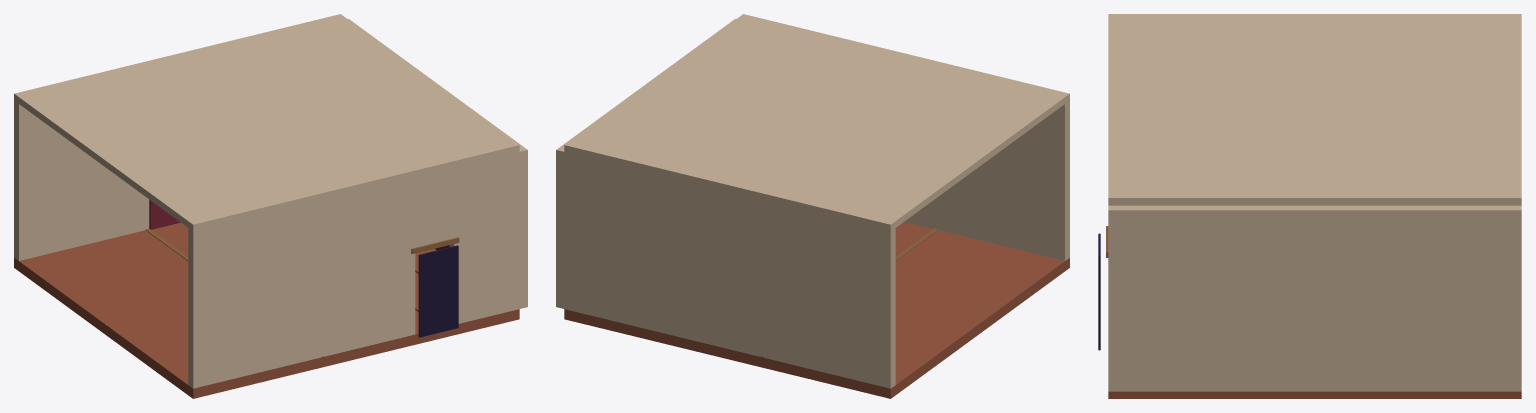
Rendered from kiln_office_room.gltf.
3 renders of one model, left to right at view 1: azimuth 30°, elevation 25°; view 2: azimuth 150°, elevation 25°; view 3: azimuth 270°, elevation 25°, orthographic. The views are drawn at different scales.
Visible parts, largest first — view 1: ceiling, right_wall, floor, left_wall, right_wall.2, doorway, lintel, back_wall, left_dado; view 2: ceiling, left_wall, floor, right_wall, back_wall; view 3: ceiling, back_wall, floor.
Boxes of the visible parts, left/top/right/bottom form: ceiling: left=14, top=14, right=519, bottom=231; right_wall: left=188, top=177, right=415, bottom=388; floor: left=14, top=222, right=519, bottom=398; left_wall: left=14, top=100, right=149, bottom=260; right_wall.2: left=449, top=152, right=519, bottom=323; doorway: left=418, top=245, right=458, bottom=337; lintel: left=415, top=168, right=454, bottom=247; back_wall: left=348, top=19, right=527, bottom=308; left_dado: left=149, top=199, right=180, bottom=229; ceiling: left=564, top=14, right=1069, bottom=231; left_wall: left=564, top=152, right=895, bottom=388; floor: left=564, top=222, right=1069, bottom=398; right_wall: left=904, top=100, right=1069, bottom=260; back_wall: left=556, top=19, right=735, bottom=308; ceiling: left=1108, top=14, right=1521, bottom=205; back_wall: left=1108, top=205, right=1521, bottom=391; floor: left=1108, top=391, right=1521, bottom=398.
Size of the model in its own units: 10.25 by 5.1 by 9.72.
